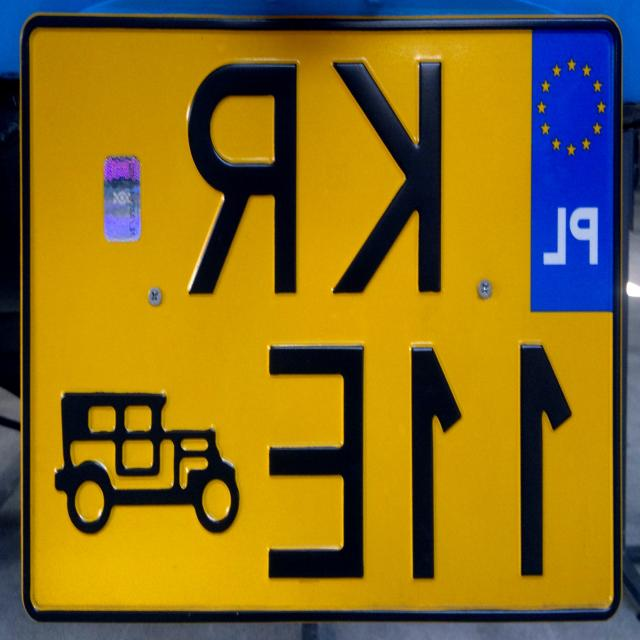pl_license_plate: (28, 23, 616, 615)
